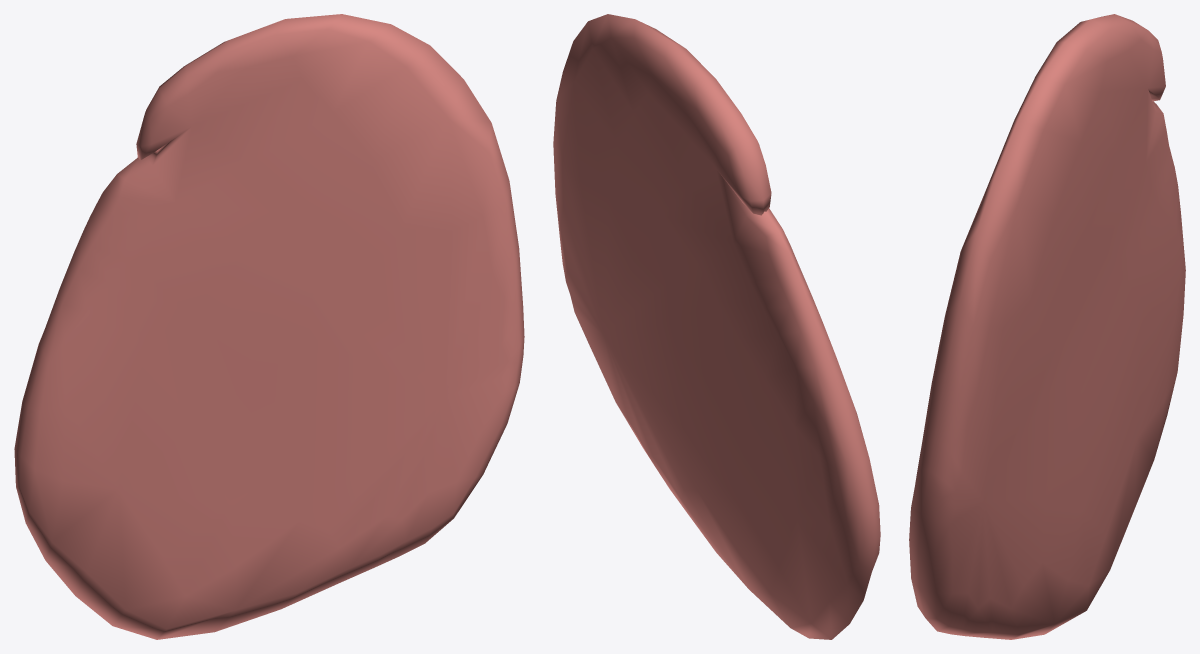
The picture shows the model from 3 angles, left to right: view 1: azimuth 30°, elevation 25°; view 2: azimuth 150°, elevation 25°; view 3: azimuth 270°, elevation 25°; orthographic projection. The views are drawn at different scales.
Visible parts, largest first — view 1: ZA_c6f3cfb52c6303a6; view 2: ZA_c6f3cfb52c6303a6; view 3: ZA_c6f3cfb52c6303a6.
Boxes of the visible parts, x1,y1,x2,y2 form: ZA_c6f3cfb52c6303a6: (14, 14, 524, 639); ZA_c6f3cfb52c6303a6: (553, 14, 880, 639); ZA_c6f3cfb52c6303a6: (909, 14, 1185, 639).
Bounding box in the file's own units: 0.00563 × 0.00762 × 0.00283.
